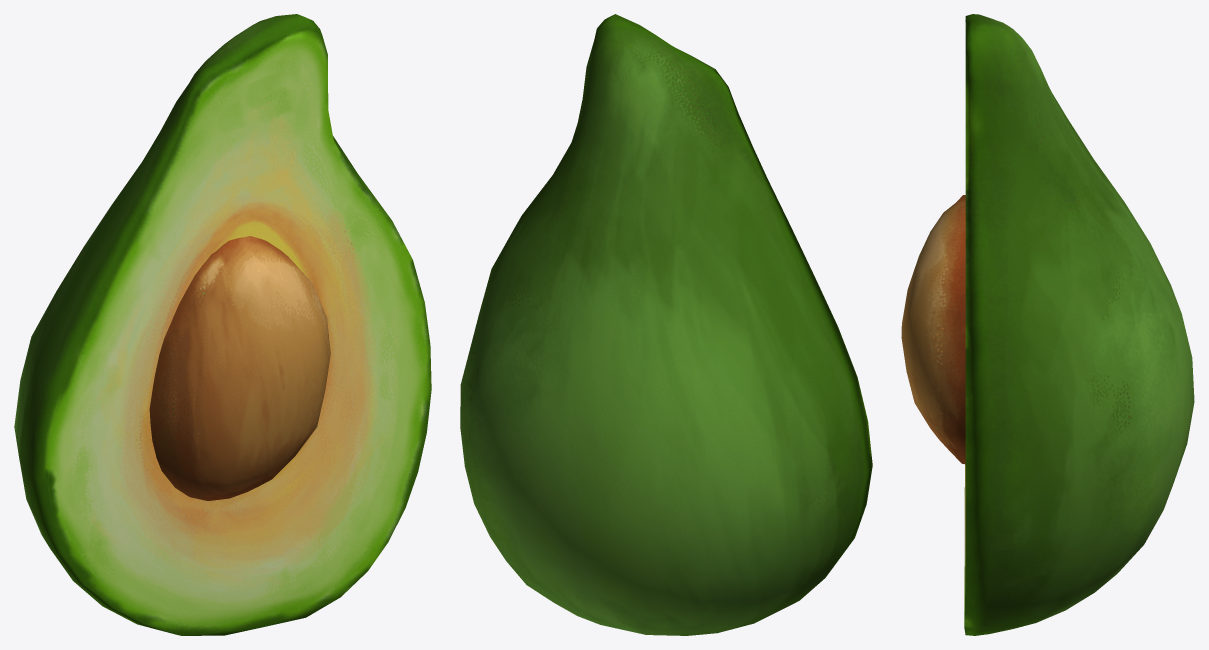
The model's file is khronos-avocado.glb.
3 views of the same model, side by side, from view 1: azimuth 30°, elevation 25°; view 2: azimuth 150°, elevation 25°; view 3: azimuth 270°, elevation 25° (orthographic). The views are drawn at different scales.
Parts seen in each view (by area): view 1: Avocado; view 2: Avocado; view 3: Avocado.
Boxes of the visible parts, <box> form: Avocado: <box>14,14,431,635</box>; Avocado: <box>460,14,872,635</box>; Avocado: <box>901,14,1194,635</box>.
Bounding box in the file's own units: 1.62 × 2.4 × 1.05.
Materials: 1 (1 with a texture image).
